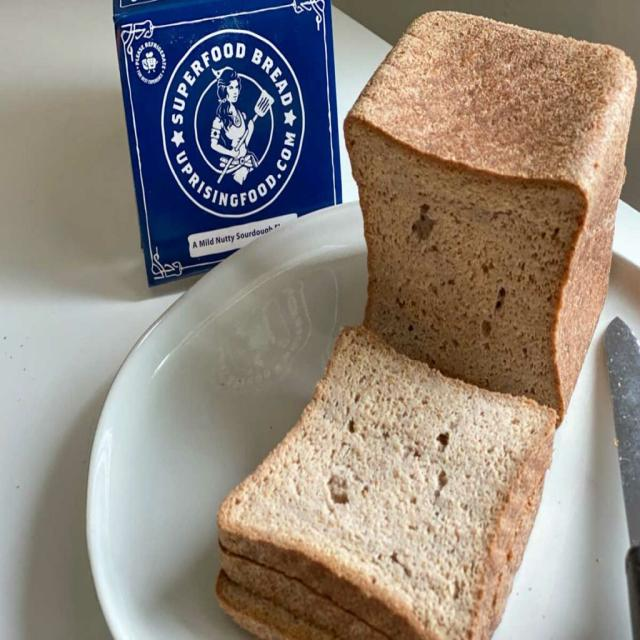Bread: (344, 12, 636, 422), (216, 327, 556, 638)
